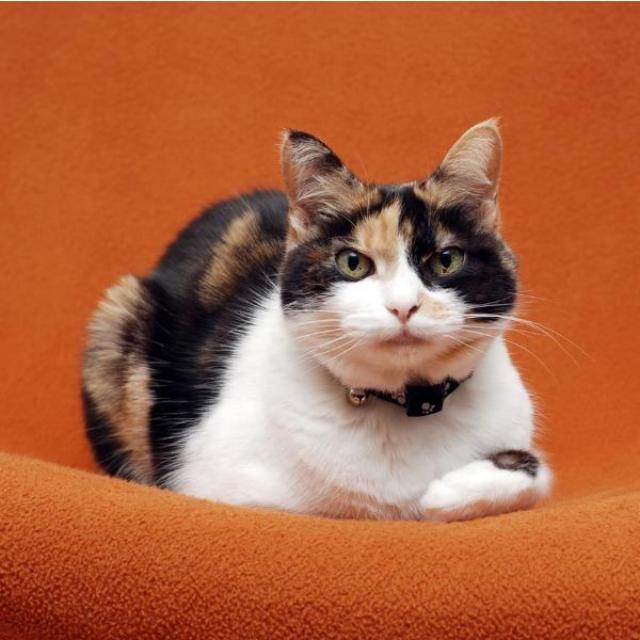cat: (82, 122, 552, 522)
